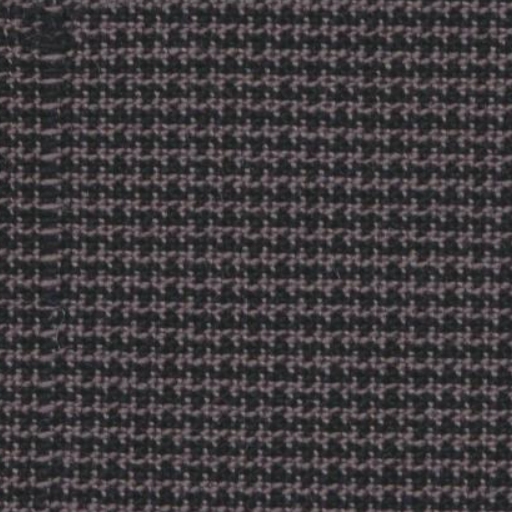DaiSha: (24, 6, 89, 310)
